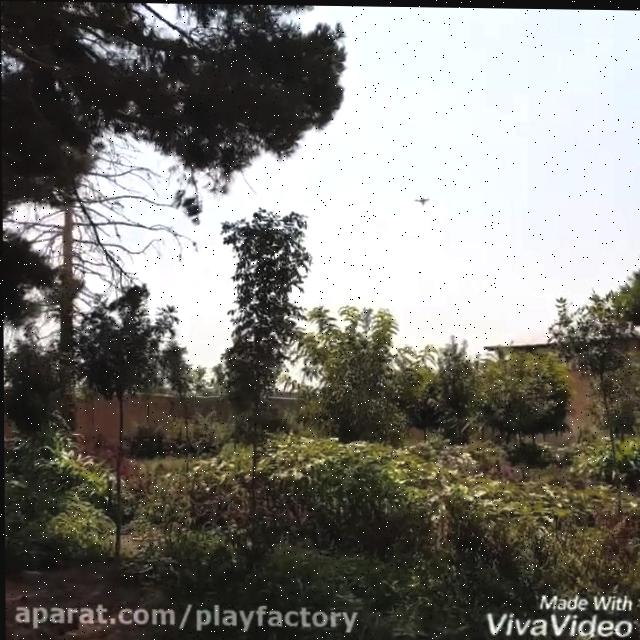drone: (411, 187, 432, 205)
